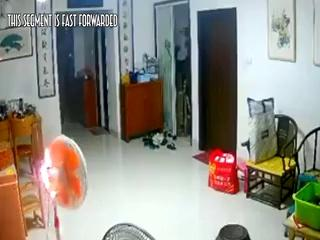Fire: (36, 150, 58, 200)
